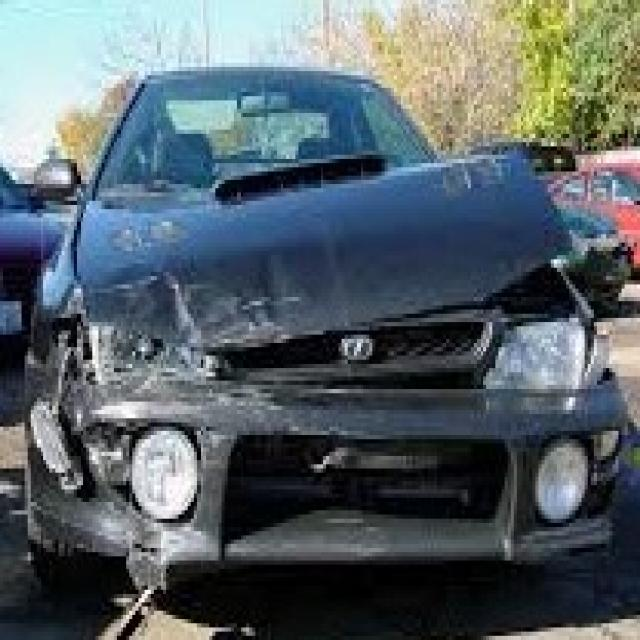severe: (75, 172, 610, 572)
